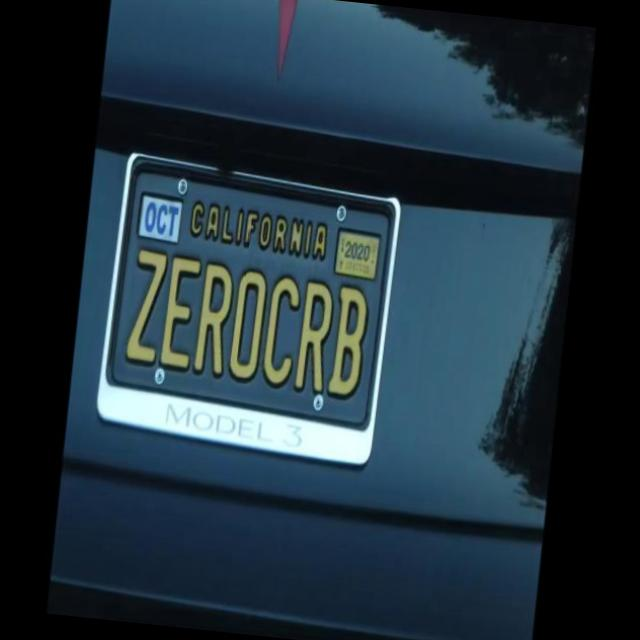LicensePlate: (103, 156, 404, 452)
